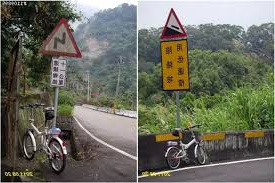Double_bend_right: (37, 16, 83, 58)
